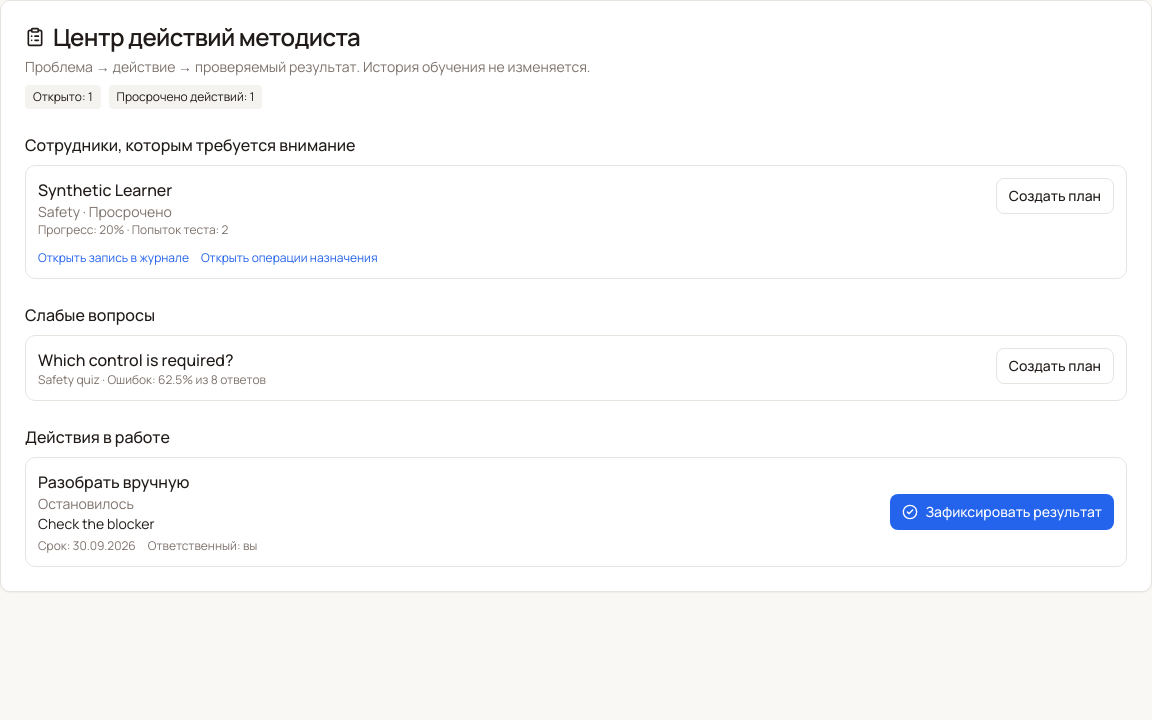
Test: learning action center › allows another action type while disabling the already active type
Check: the text "Synthetic Learner" is shown, box [38,179,172,201]
Click the button "Создать план" in the row of "Synthetic Learner" at (1055, 196), box [996,178,1114,214]
(page scrolled)
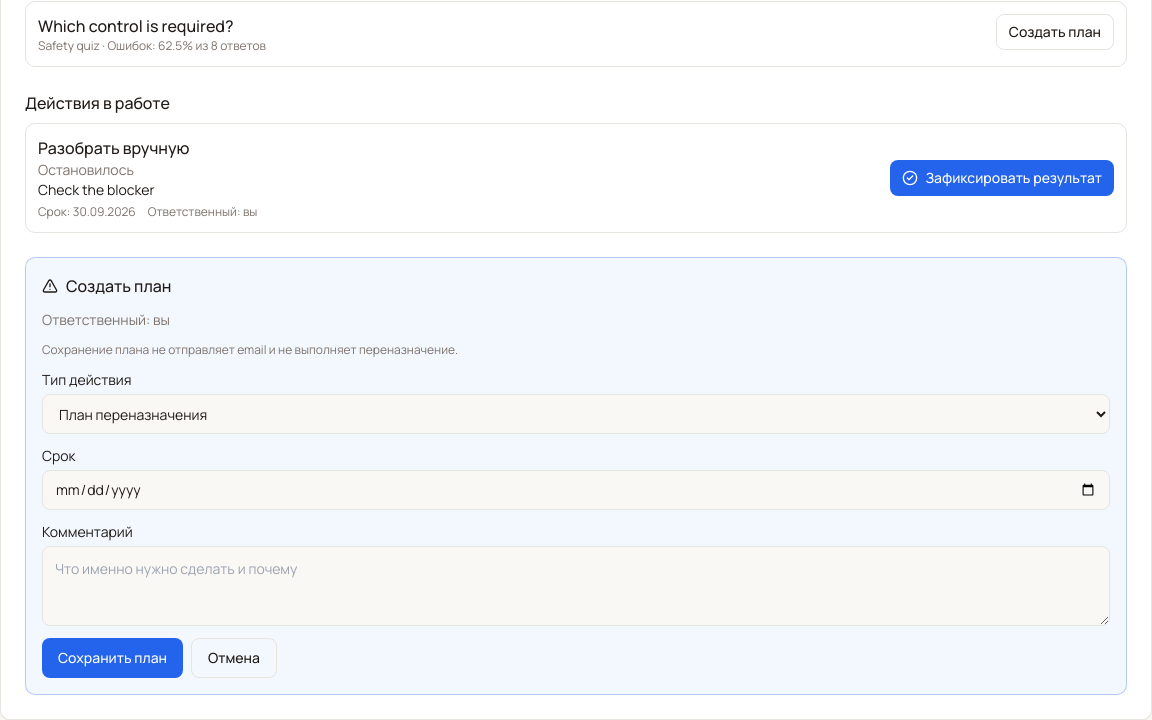
Check: the dropdown labelled "Тип действия" shows "План переназначения", box [42,394,1110,434]
